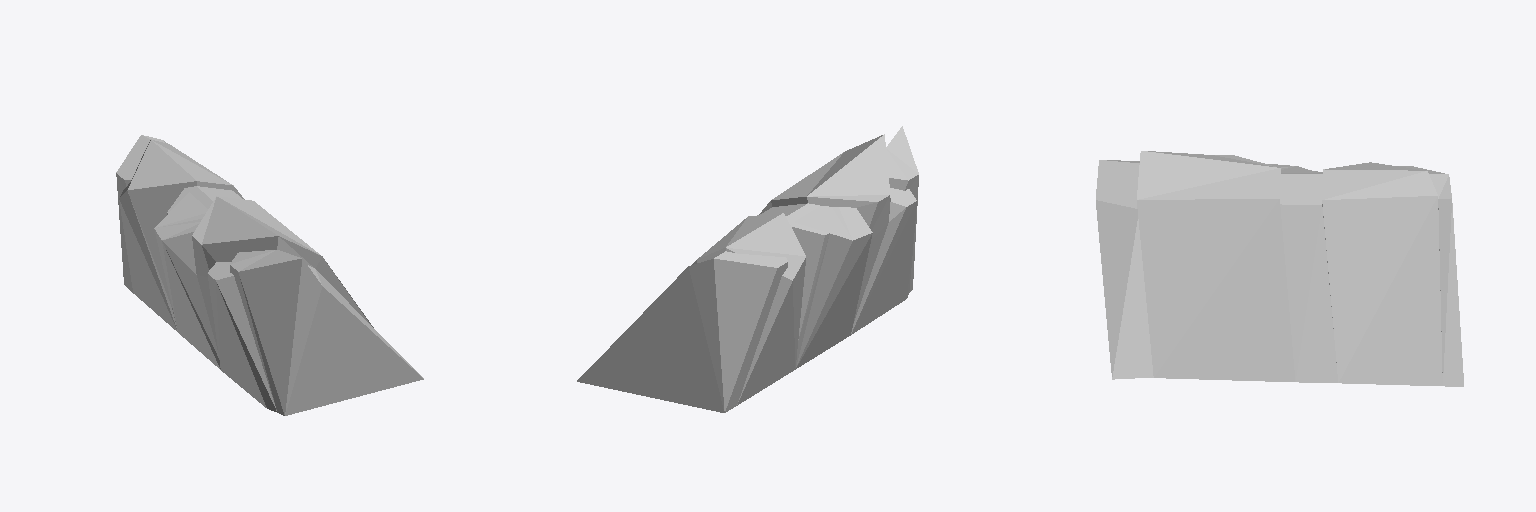
File: BGmountain11.obj
3 renders of one model, left to right at view 1: azimuth 30°, elevation 25°; view 2: azimuth 150°, elevation 25°; view 3: azimuth 270°, elevation 25°, orthographic.
Parts seen in each view (by area): view 1: polySurface20; view 2: polySurface20; view 3: polySurface20.
Boxes of the visible parts, x1,y1,x2,y2 form: polySurface20: [116, 135, 423, 415]; polySurface20: [577, 126, 918, 412]; polySurface20: [1096, 151, 1463, 386].
Bounding box in the file's own units: 20.69 × 16.39 × 33.22.